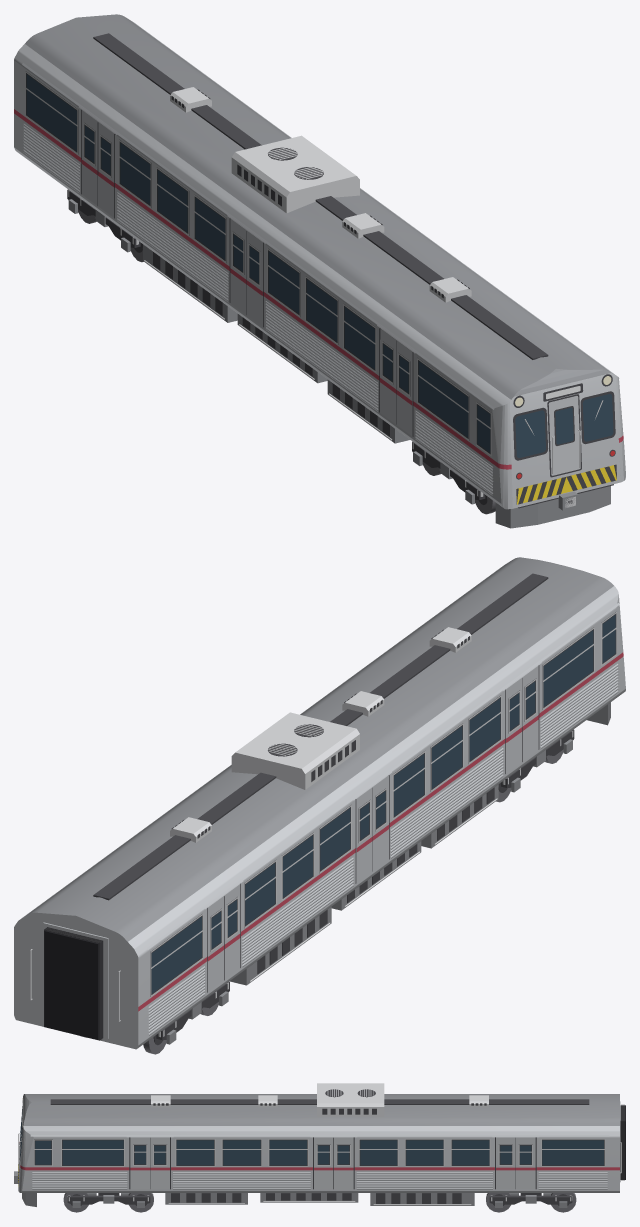
The model's file is 388_close.fbx.
3 renders of one model, top to bottom at view 1: azimuth 30°, elevation 25°; view 2: azimuth 150°, elevation 25°; view 3: azimuth 270°, elevation 25°, orthographic. The views are drawn at different scales.
Visible parts, largest first — view 1: 388_close; view 2: 388_close; view 3: 388_close.
Part boxes in pixels (bbox=[...]): 388_close: bbox=[14, 14, 625, 528]; 388_close: bbox=[14, 557, 625, 1054]; 388_close: bbox=[14, 1083, 625, 1212].
Bounding box in the file's own units: 2.93 × 3.91 × 20.
